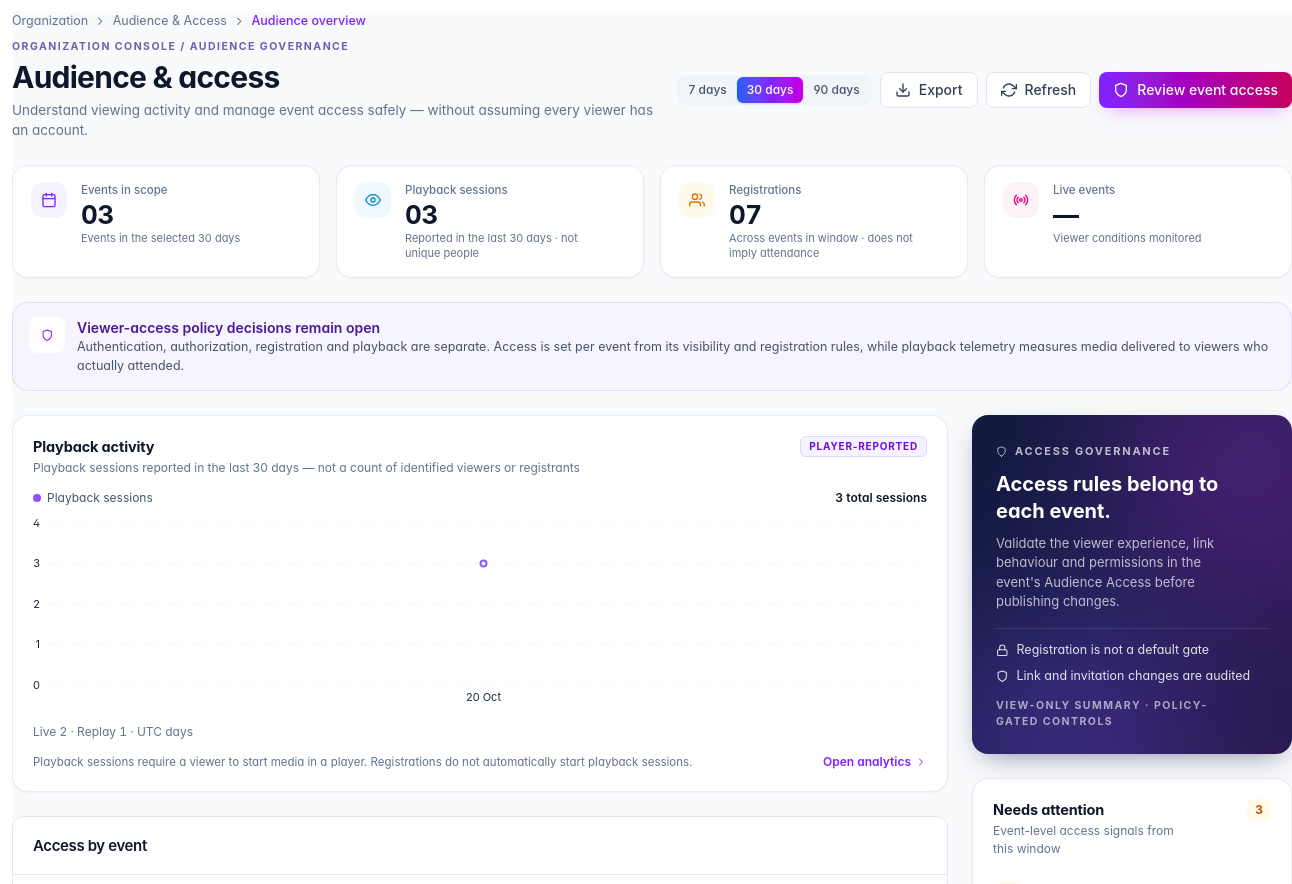
metrics clarity and independence (registrations vs playback sessions) › scenario 4 & 5: switching between 7-day, 30-day, and 90-day updates both metrics and date wording
This screenshot has width=1292, height=884.
Expected: the text "Events in the selected 30 days" is shown, [81,231,240,246]
Expected: the text "Reported in the last 30 days · not unique people" is shown, [405,231,578,260]
// Switch to 7 days
Click the button "7 days" at (708,90), box [678,77,737,103]
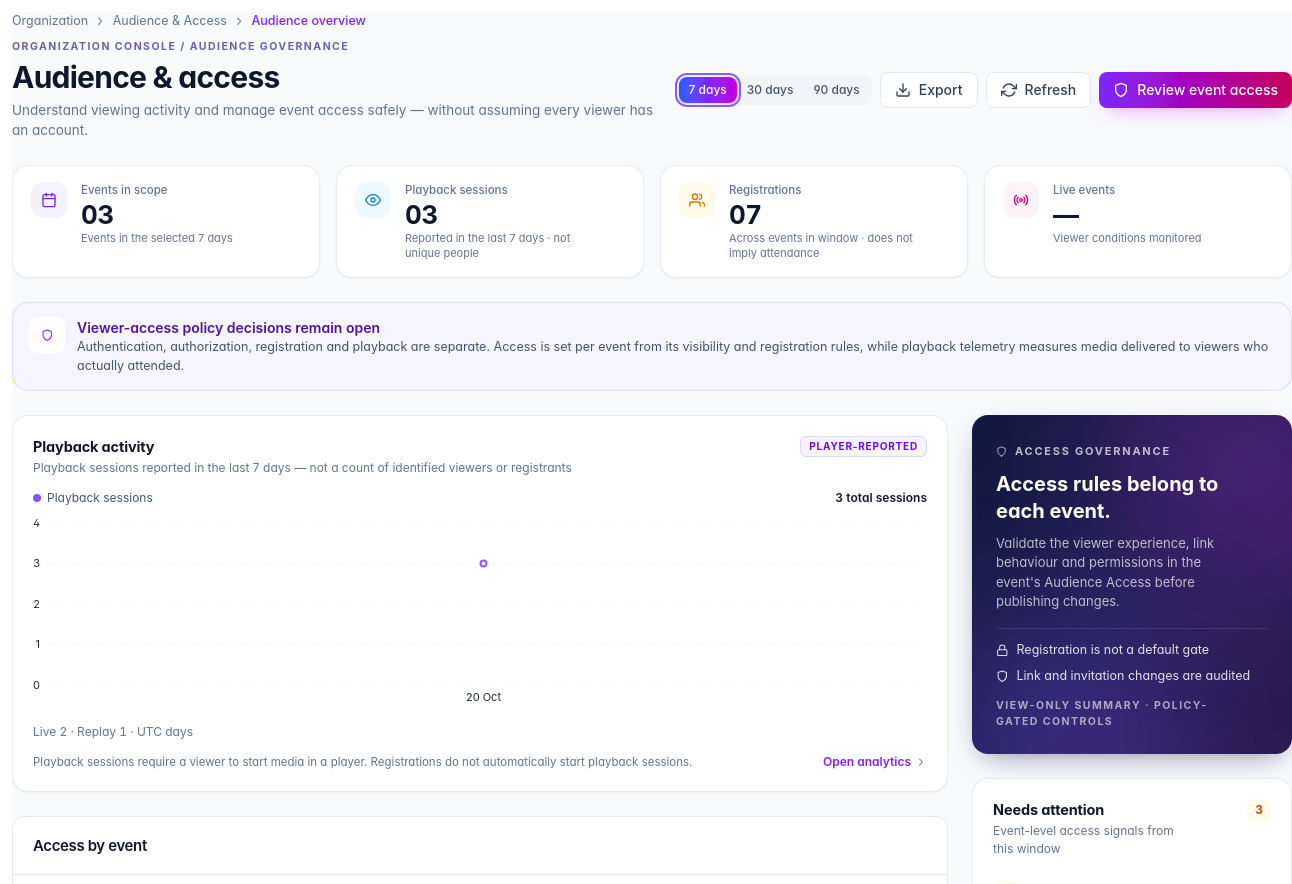
Expected: the text "Events in the selected 7 days" is shown, [81,231,233,246]
Expected: the text "Reported in the last 7 days · not unique people" is shown, [405,231,570,260]
// Switch to 90 days
Click the button "90 days" at (837,90), box [804,77,870,103]
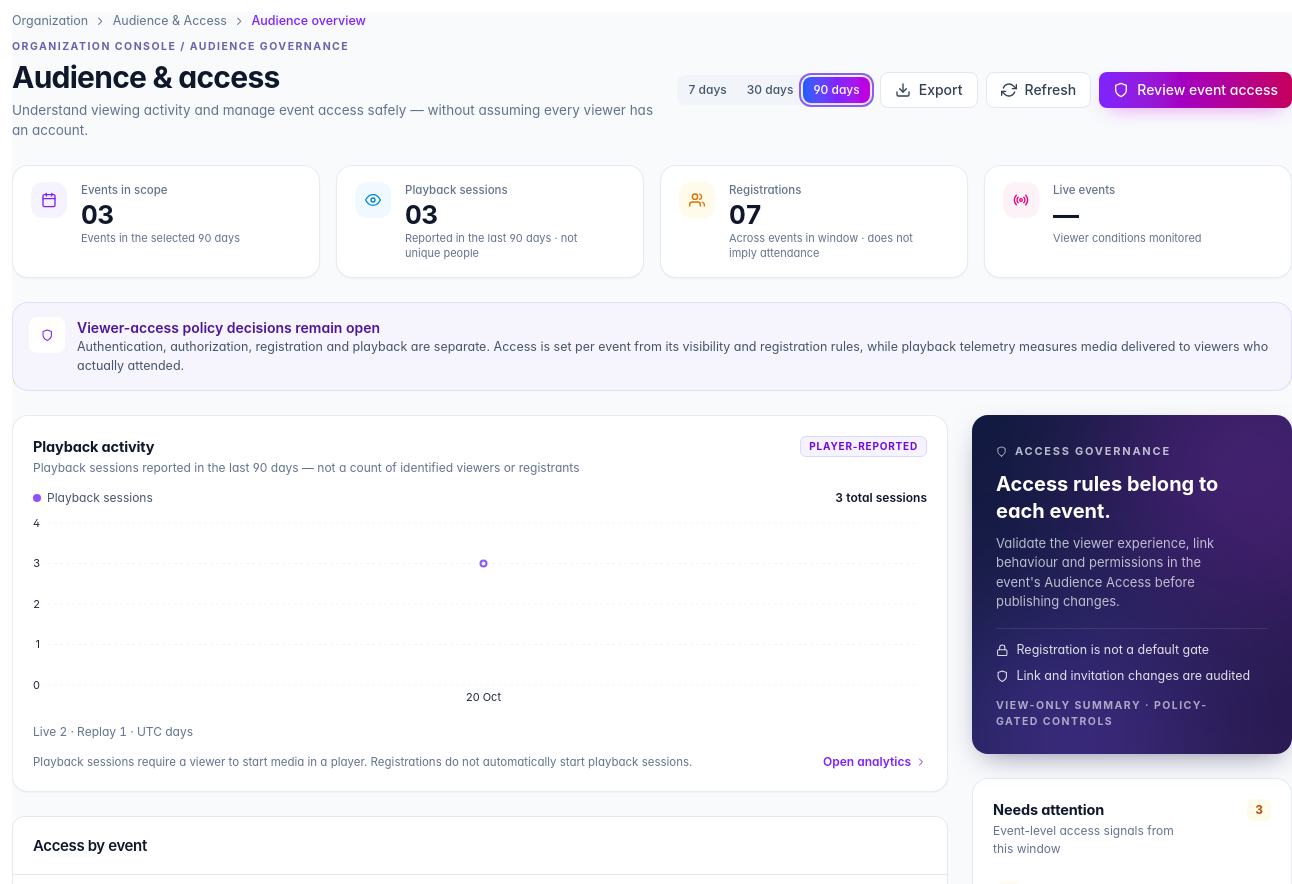
Expected: the text "Events in the selected 90 days" is shown, [81,231,240,246]
Expected: the text "Reported in the last 90 days · not unique people" is shown, [405,231,577,260]
